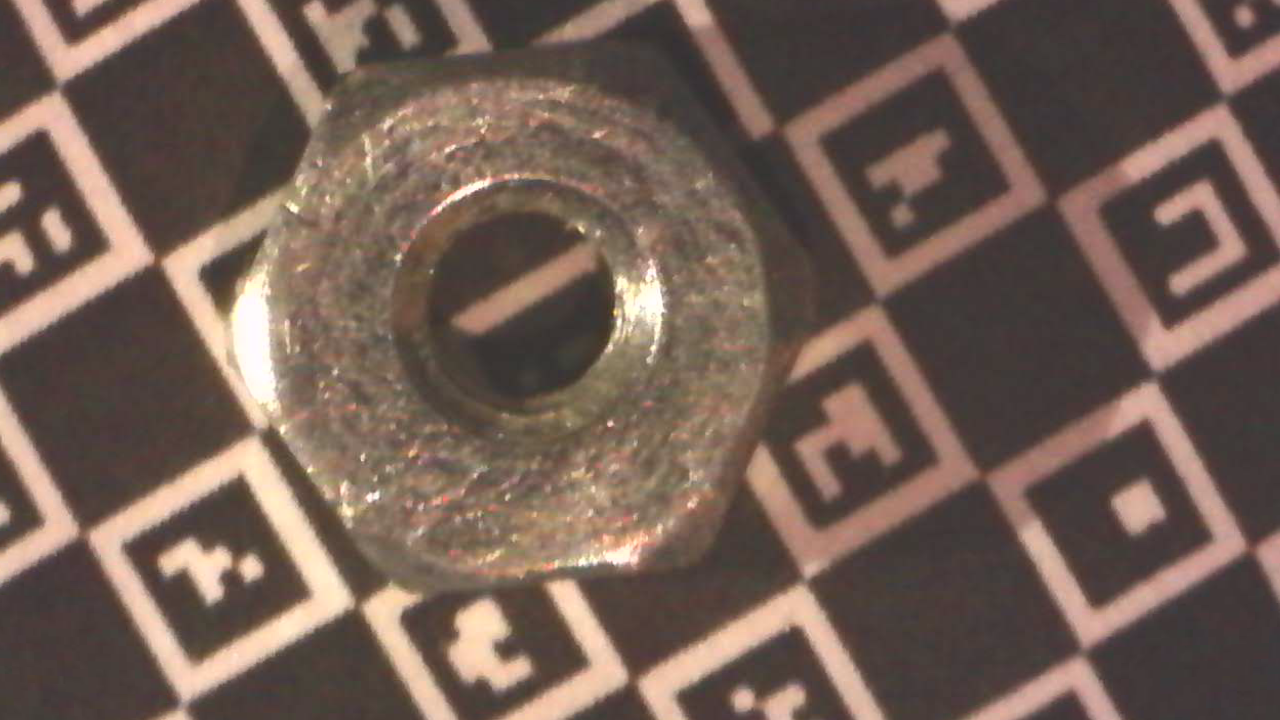Bolt: (226, 42, 824, 597)
